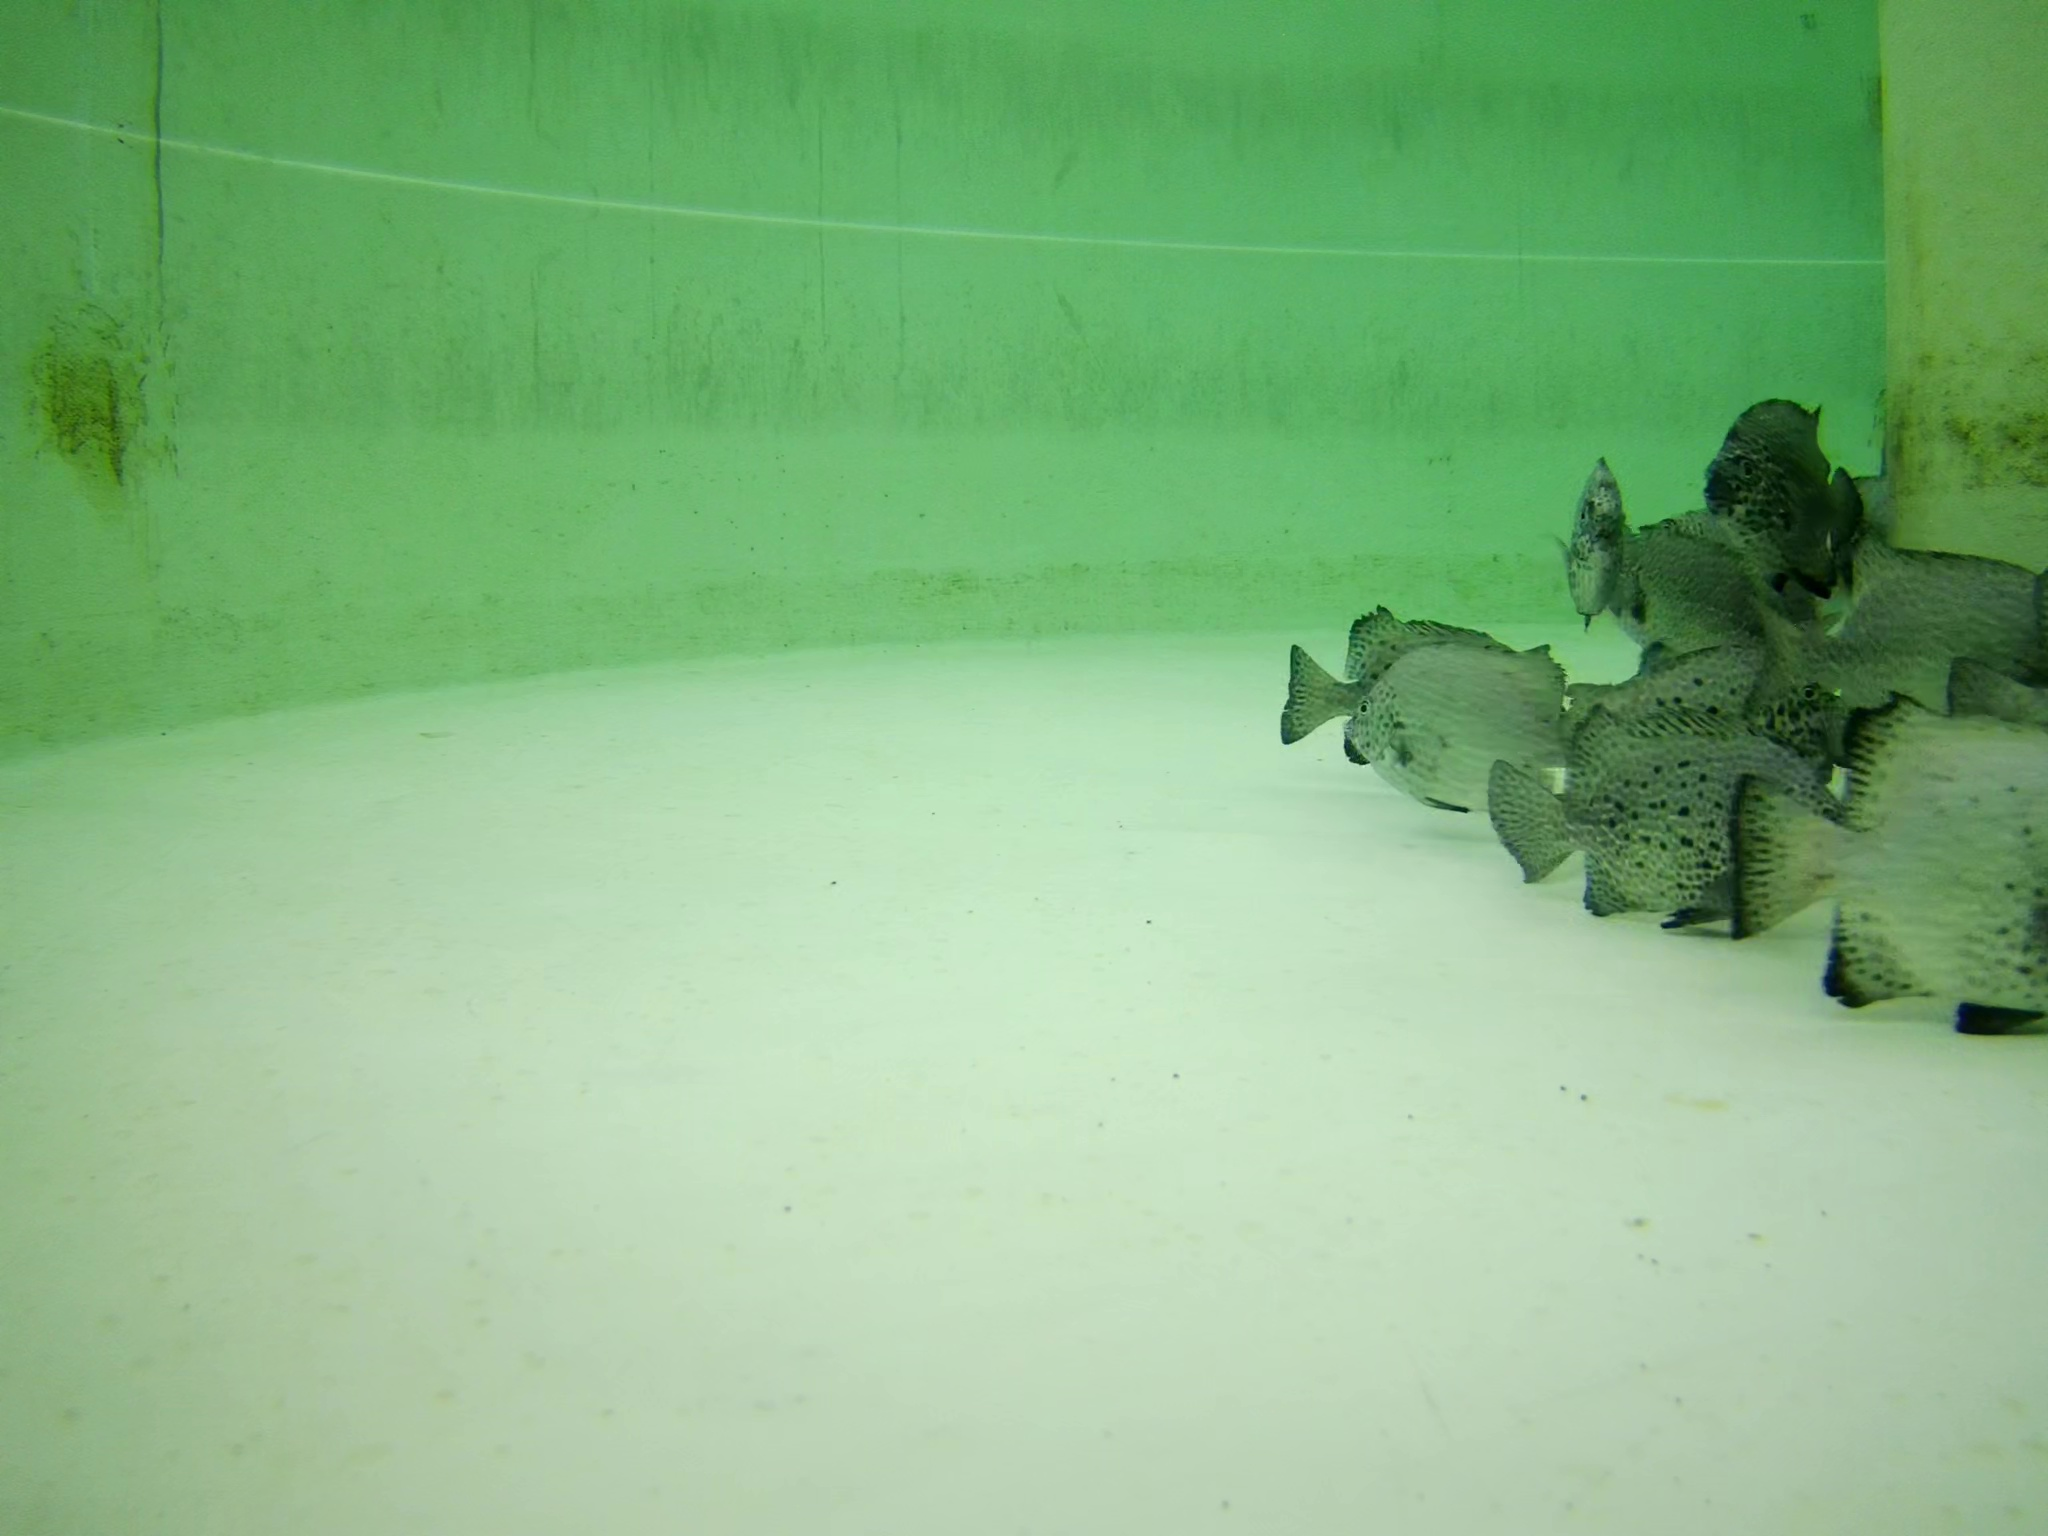fish: (1716, 702, 2048, 1012), (1482, 707, 1830, 912), (1742, 534, 2048, 718), (1272, 605, 1553, 750), (1556, 631, 1845, 766), (1335, 655, 1590, 802), (1705, 392, 1861, 586), (1632, 513, 1780, 663), (1946, 666, 2048, 799), (1558, 460, 1624, 621)
